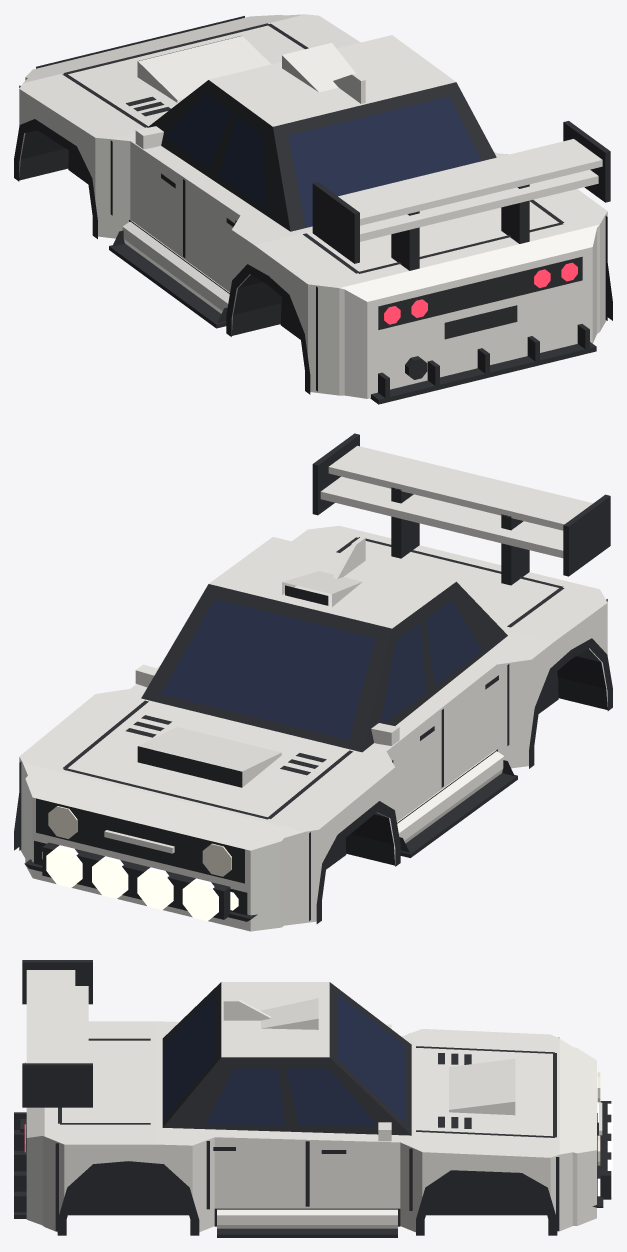
Rendered from Hoshi.fbx.
3 views of the same model, one above another, from view 1: azimuth 30°, elevation 25°; view 2: azimuth 150°, elevation 25°; view 3: azimuth 270°, elevation 25° (orthographic). The views are drawn at different scales.
Visible parts, largest first — view 1: BumperRear, RearWindow, Opt_Wing_Rally_WingBlade, Hood, Pillars, Roof, Trunk, Opt_Wing_Rally_Wing, Door_FL, Opt_Hood_Scoop_HoodScoop, TailGarnish, Underbody (+21 smaller); view 2: Hood, Windshield, BumperFront, Opt_Wing_Rally_WingBlade, Pillars, Roof, Trunk, Opt_Wing_Rally_Wing, Door_RL, Grille, Opt_Bumper_Lamps_RallyLamp, Fender_RL (+22 smaller); view 3: Hood, Pillars, Trunk, WheelWell, Door_FR, Door_RR, BumperFront, Roof, Opt_Wing_Rally_WingBlade, Windshield, Fender_RR, Opt_Wing_Rally_Wing (+19 smaller).
Part boxes in pixels (x1,y1,x2,y2): BumperRear: (321,217,604,398); RearWindow: (288,96,481,227); Opt_Wing_Rally_WingBlade: (338,139,602,241); Hood: (19,14,360,138); Pillars: (147,80,496,231); Roof: (209,35,455,126); Trunk: (254,189,607,285); Opt_Wing_Rally_Wing: (312,121,610,270); Door_FL: (109,139,185,259); Opt_Hood_Scoop_HoodScoop: (138,36,271,102); TailGarnish: (378,256,582,329); Underbody: (19,130,282,335); Hood: (19,692,394,831); Windshield: (161,599,375,739); BumperFront: (22,763,305,931); Opt_Wing_Rally_WingBlade: (320,445,592,558); Pillars: (141,581,507,752); Roof: (209,537,455,628); Trunk: (292,528,607,641); Opt_Wing_Rally_Wing: (312,433,610,585); Door_RL: (441,662,510,788); Grille: (36,798,244,883); Opt_Bumper_Lamps_RallyLamp: (46,845,218,920); Fender_RL: (510,603,607,768); Hood: (413,1029,559,1157); Pillars: (162,982,411,1135); Trunk: (55,1021,154,1144); WheelWell: (68,1169,546,1215); Door_FR: (307,1140,413,1231); Door_RR: (206,1137,307,1229); BumperFront: (559,1039,596,1230); Roof: (221,982,329,1057); Opt_Wing_Rally_WingBlade: (26,970,88,1063); Windshield: (338,994,405,1123); Fender_RR: (55,1140,205,1232); Opt_Wing_Rally_Wing: (22,960,92,1107).
Bounding box in the file's own units: 666 × 438 × 1355.
